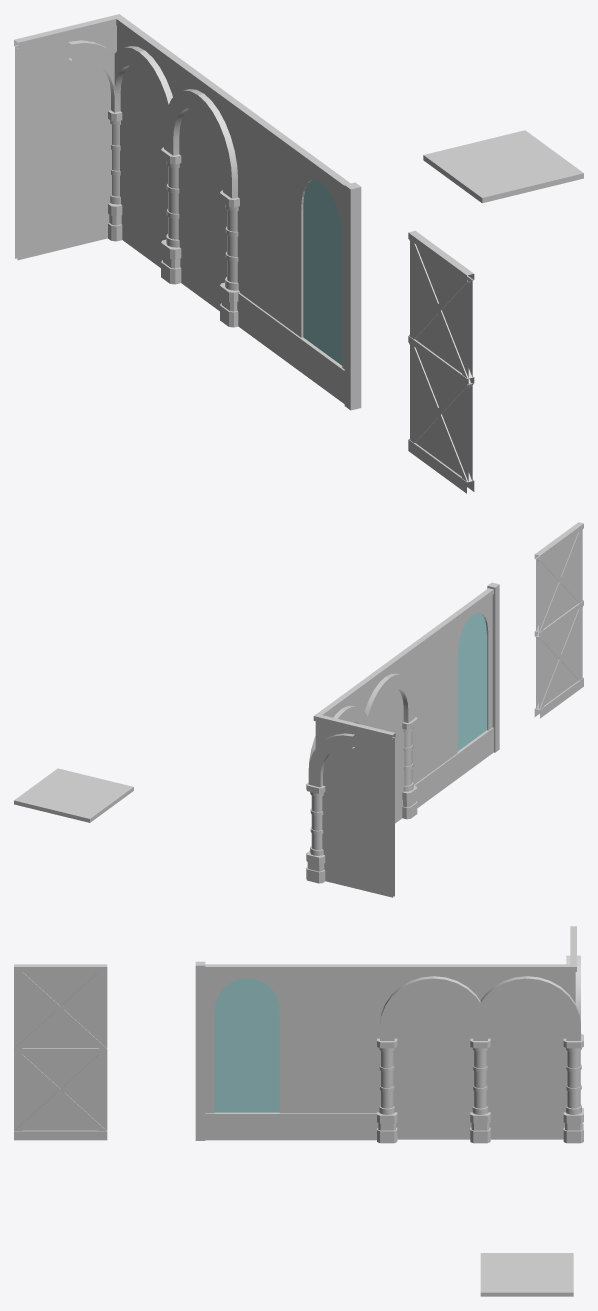
File: TilingAssets.fbx
3 renders of one model, top to bottom at view 1: azimuth 30°, elevation 25°; view 2: azimuth 150°, elevation 25°; view 3: azimuth 270°, elevation 25°, orthographic. The views are drawn at different scales.
Parts seen in each view (by area): view 1: Cube.001, Cube.011, Window.001, Window, Cube.006, Plane.002, Cube.007, Cube.008, Cube.012, Cube.005; view 2: Cube.001, Cube.011, Window, Window.001, Plane.002, Cube.006, Cube.005, Cube.012, Cube.008, Cube.007; view 3: Cube.011, Window, Window.001, Cube.001, Cube.006, Plane.002, Cube.007, Cube.005, Cube.012, Cube.008.
Boxes of the visible parts, <box> form: Cube.001: <box>14,14,179,267</box>; Cube.011: <box>408,230,474,493</box>; Window.001: <box>232,101,297,364</box>; Window: <box>290,144,350,403</box>; Cube.006: <box>173,58,238,310</box>; Plane.002: <box>423,130,583,203</box>; Cube.007: <box>139,50,203,284</box>; Cube.008: <box>344,182,361,410</box>; Cube.012: <box>198,94,239,327</box>; Cube.005: <box>68,40,144,241</box>; Cube.001: <box>313,683,395,897</box>; Cube.011: <box>534,522,583,718</box>; Window: <box>447,588,493,782</box>; Window.001: <box>403,618,452,807</box>; Plane.002: <box>14,768,133,822</box>; Cube.006: <box>359,650,408,823</box>; Cube.005: <box>306,709,354,883</box>; Cube.012: <box>385,673,417,819</box>; Cube.008: <box>487,582,499,752</box>; Cube.007: <box>342,677,389,726</box>; Cube.011: <box>14,964,107,1140</box>; Window: <box>205,964,293,1140</box>; Window.001: <box>294,964,387,1140</box>; Cube.001: <box>480,926,576,1139</box>; Cube.006: <box>387,964,480,1139</box>; Plane.002: <box>480,1253,573,1296</box>; Cube.007: <box>434,976,526,1143</box>; Cube.005: <box>527,955,583,1143</box>; Cube.012: <box>377,976,433,1143</box>; Cube.008: <box>195,961,205,1140</box>.
Size of the model in its own units: 10 by 4.15 by 12.22.
